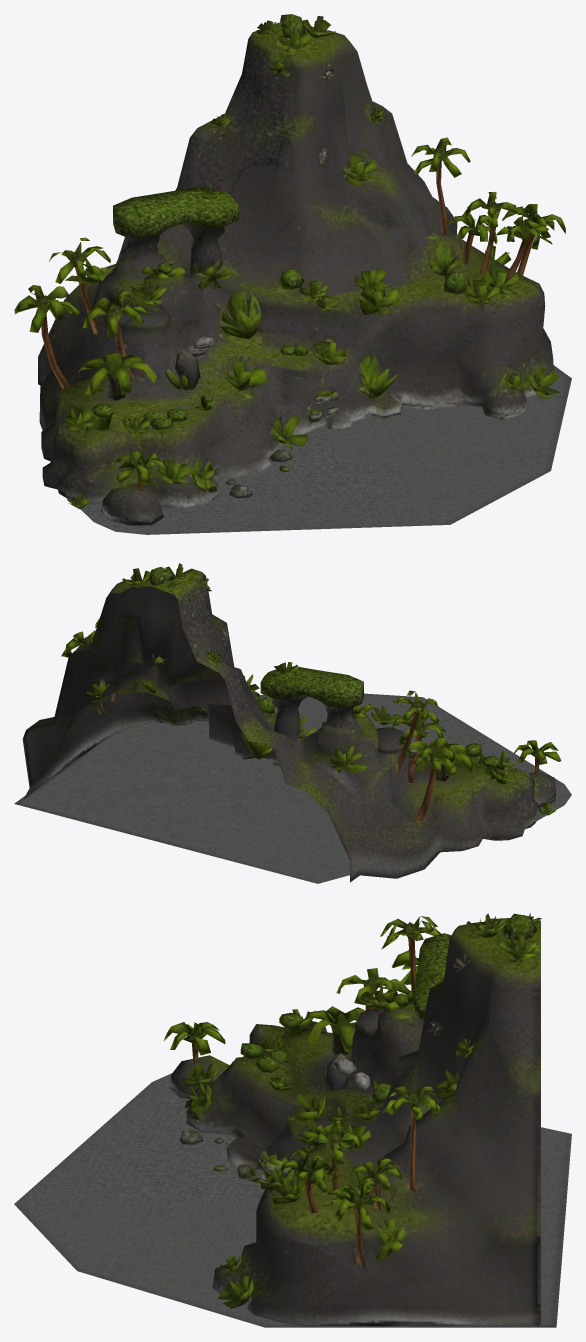
The model's file is island-foundations.glb.
The picture shows the model from 3 angles, top to bottom: view 1: azimuth 30°, elevation 25°; view 2: azimuth 150°, elevation 25°; view 3: azimuth 270°, elevation 25°; orthographic projection. The views are drawn at different scales.
Parts seen in each view (by area): view 1: tripo_node_47907df8-0eb2-4e63-90da-a2fc144ef79b; view 2: tripo_node_47907df8-0eb2-4e63-90da-a2fc144ef79b; view 3: tripo_node_47907df8-0eb2-4e63-90da-a2fc144ef79b.
Part boxes in pixels (x1,y1,x2,y2): tripo_node_47907df8-0eb2-4e63-90da-a2fc144ef79b: (14,14,571,534); tripo_node_47907df8-0eb2-4e63-90da-a2fc144ef79b: (14,563,571,883); tripo_node_47907df8-0eb2-4e63-90da-a2fc144ef79b: (14,913,571,1327).
Bounding box in the file's own units: 0.998 × 0.5762 × 0.8457.
1 material, 1 textured.
